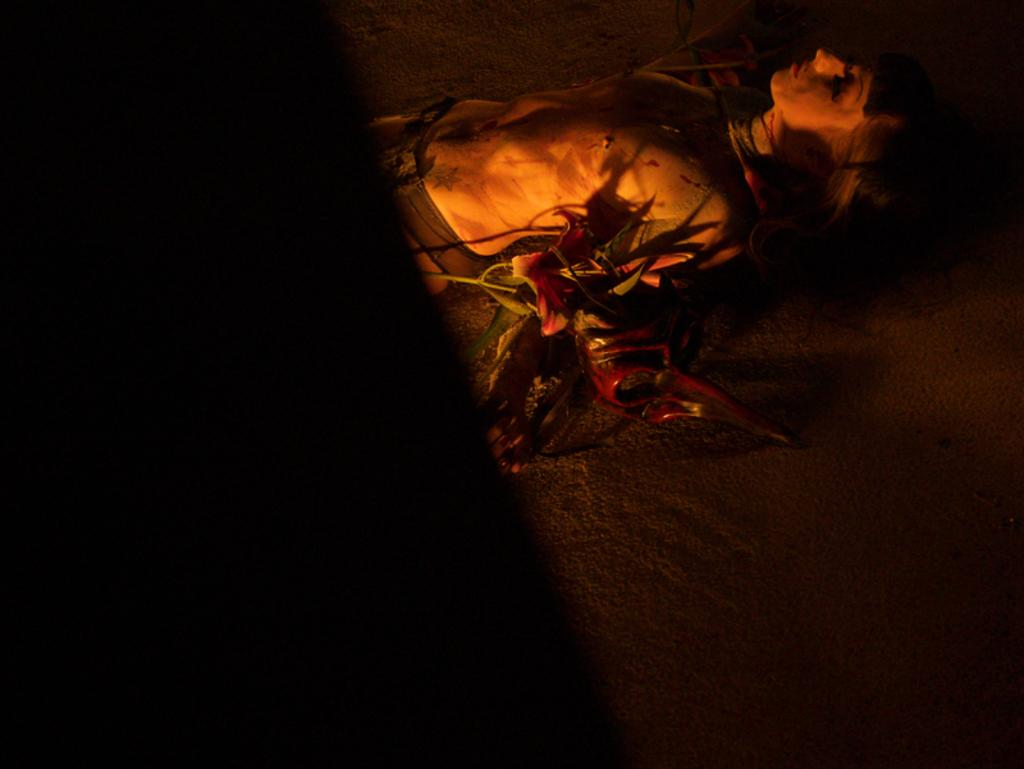Sem Máscara: (768, 45, 956, 201)
